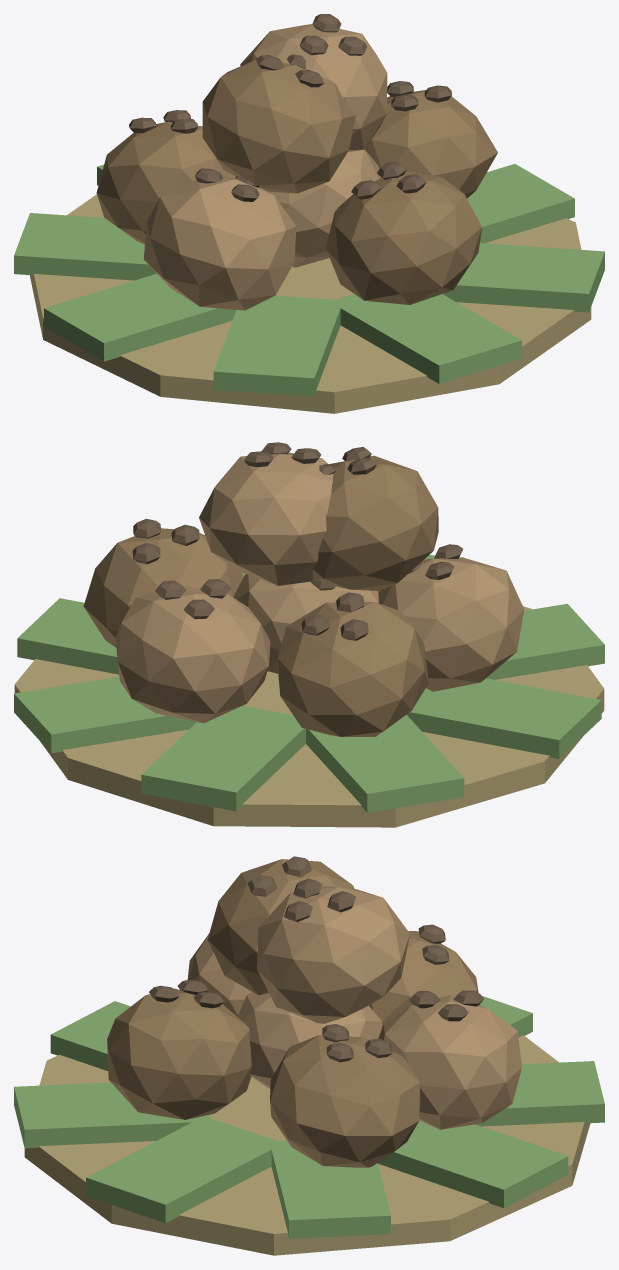
The model's file is 15-Recursos_nido_cocos.glb.
3 renders of one model, top to bottom at view 1: azimuth 30°, elevation 25°; view 2: azimuth 150°, elevation 25°; view 3: azimuth 270°, elevation 25°, orthographic.
Visible parts, largest first — view 1: SM_Nido_Base, SM_Coco_4, SM_Coco_5, SM_Coco_7, SM_Hoja_Nido_5, SM_Hoja_Nido_6, SM_Hoja_Nido_4, SM_Hoja_Nido_7, SM_Coco_1, SM_Coco_3, SM_Hoja_Nido_3, SM_Coco_6 (+2 smaller); view 2: SM_Nido_Base, SM_Coco_2, SM_Coco_3, SM_Coco_6, SM_Coco_7, SM_Coco_4, SM_Hoja_Nido_2, SM_Hoja_Nido_4, SM_Hoja_Nido_3, SM_Hoja_Nido_1, SM_Coco_1, SM_Hoja_Nido_5 (+2 smaller); view 3: SM_Nido_Base, SM_Coco_1, SM_Coco_6, SM_Coco_5, SM_Coco_2, SM_Hoja_Nido_7, SM_Hoja_Nido_1, SM_Hoja_Nido_0, SM_Hoja_Nido_6, SM_Coco_7, SM_Hoja_Nido_2, SM_Coco_0 (+4 smaller).
Boxes of the visible parts, x1,y1,x2,y2 form: SM_Nido_Base: (29, 194, 591, 413); SM_Coco_4: (143, 178, 296, 310); SM_Coco_5: (326, 171, 482, 304); SM_Coco_7: (202, 59, 355, 193); SM_Hoja_Nido_5: (213, 295, 341, 396); SM_Hoja_Nido_6: (329, 294, 521, 383); SM_Hoja_Nido_4: (44, 273, 236, 361); SM_Hoja_Nido_7: (443, 243, 604, 312); SM_Coco_1: (364, 90, 497, 198); SM_Coco_3: (96, 121, 235, 244); SM_Hoja_Nido_3: (14, 213, 156, 280); SM_Coco_6: (240, 24, 387, 151); SM_Nido_Base: (14, 606, 604, 827); SM_Coco_2: (115, 585, 270, 723); SM_Coco_3: (277, 602, 428, 736); SM_Coco_6: (199, 452, 333, 585); SM_Coco_7: (312, 455, 438, 590); SM_Coco_4: (378, 557, 524, 691); SM_Hoja_Nido_2: (141, 705, 305, 811); SM_Hoja_Nido_4: (406, 678, 601, 758); SM_Hoja_Nido_3: (306, 715, 464, 812); SM_Hoja_Nido_1: (14, 676, 196, 753); SM_Coco_1: (83, 528, 243, 647); SM_Hoja_Nido_5: (486, 603, 604, 679); SM_Nido_Base: (24, 1035, 590, 1255); SM_Coco_1: (270, 1035, 420, 1167); SM_Coco_6: (257, 886, 409, 1023); SM_Coco_5: (107, 988, 252, 1119); SM_Coco_2: (378, 994, 521, 1129); SM_Hoja_Nido_7: (86, 1116, 283, 1223); SM_Hoja_Nido_1: (378, 1120, 568, 1208); SM_Hoja_Nido_0: (270, 1140, 390, 1238); SM_Hoja_Nido_6: (14, 1082, 210, 1148); SM_Coco_7: (207, 859, 354, 995); SM_Hoja_Nido_2: (476, 1061, 604, 1126); SM_Coco_0: (237, 992, 382, 1088).
Size of the model in its own units: 1.73 by 0.827 by 1.73.
